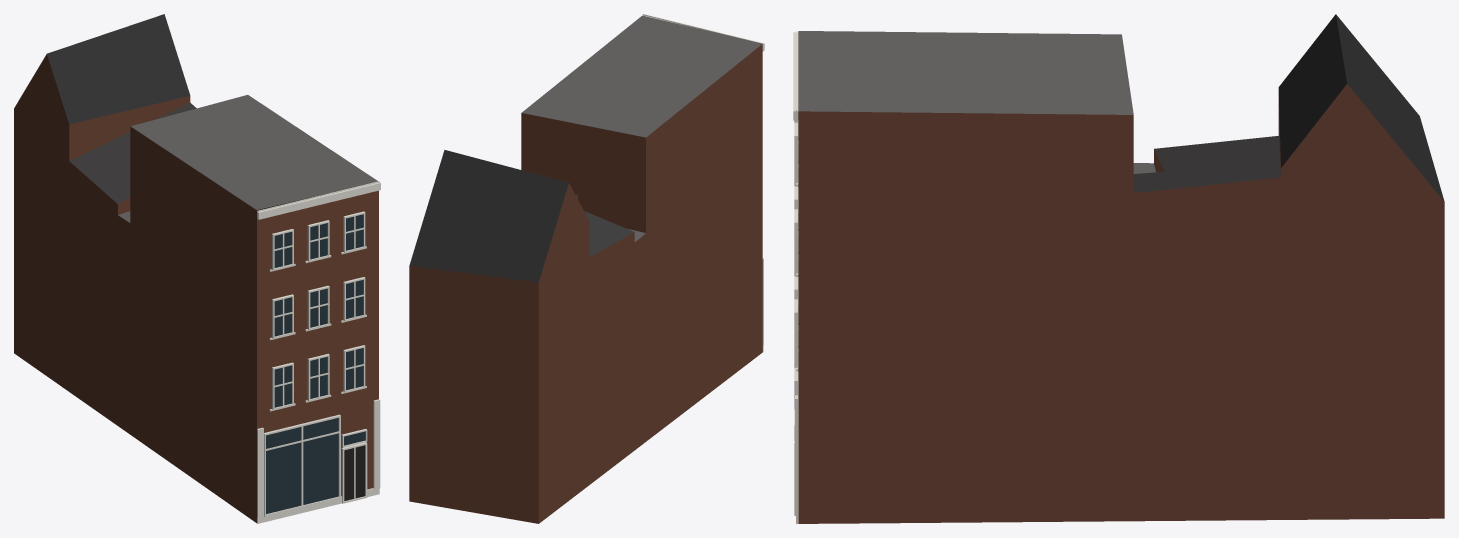
3 renders of one model, left to right at view 1: azimuth 30°, elevation 25°; view 2: azimuth 150°, elevation 25°; view 3: azimuth 270°, elevation 25°, orthographic. The views are drawn at different scales.
Visible parts, largest first — view 1: spec-0363100012571680; view 2: spec-0363100012571680; view 3: spec-0363100012571680.
Part boxes in pixels (box(x1,y1,x2,y2)): spec-0363100012571680: box(14, 14, 380, 523); spec-0363100012571680: box(409, 14, 764, 523); spec-0363100012571680: box(793, 14, 1444, 523).
Bounding box in the file's own units: 6.71 × 16.24 × 22.01.
